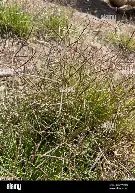weed: (0, 13, 134, 179), (0, 61, 133, 179), (0, 4, 69, 39), (35, 9, 68, 39), (0, 5, 30, 36), (108, 32, 134, 50)
